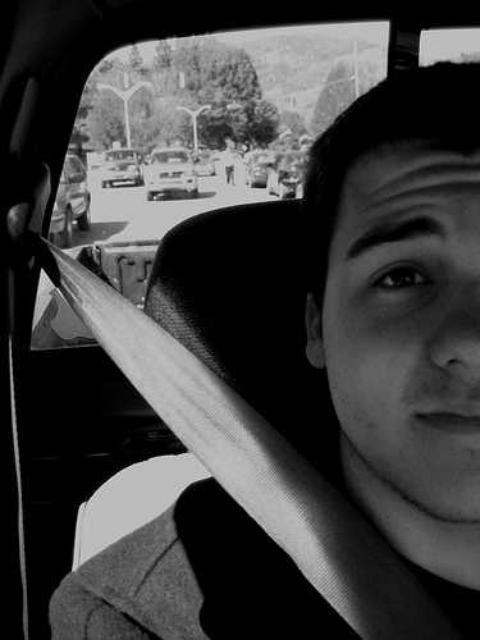SafeDriving: (348, 238, 448, 308)
Seatbelt: (13, 160, 367, 640)
